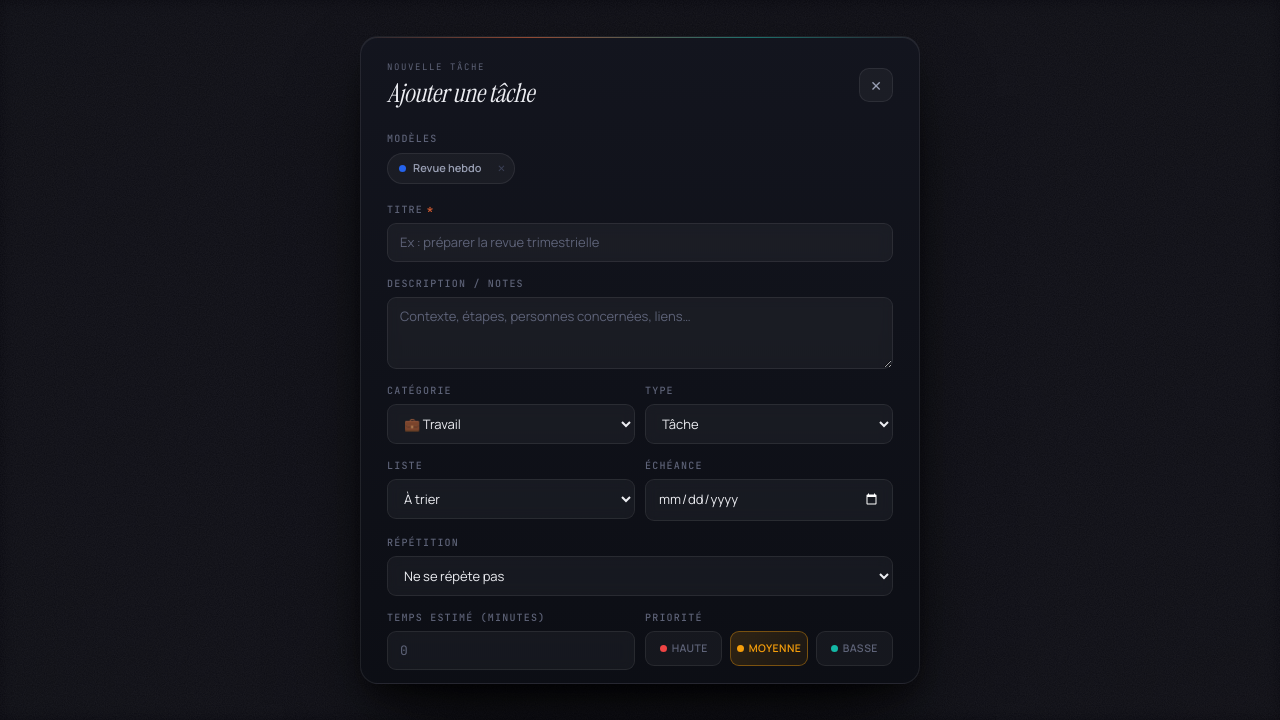
TaskModal — modèles › pré-remplit le formulaire depuis un modèle
The image size is (1280, 720).
Click the button "Revue hebdo".
click(439, 168)  # box left=388, top=154, right=489, bottom=182
(page scrolled)
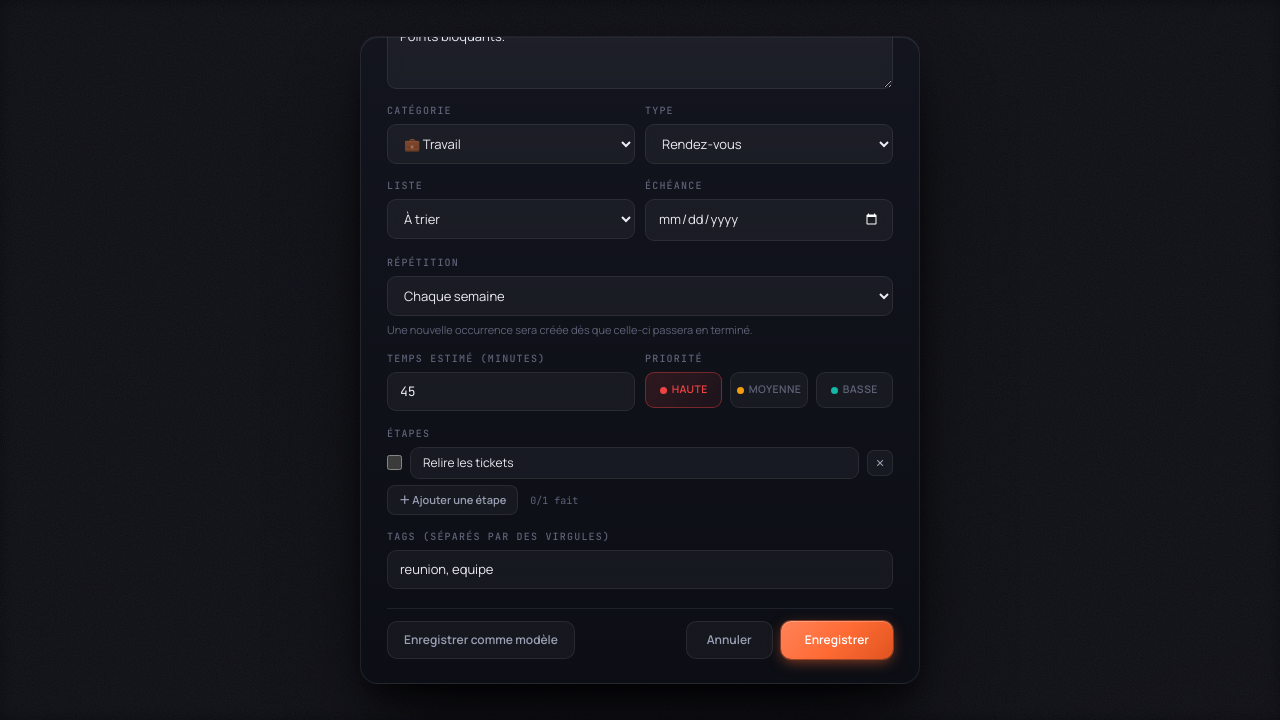
expect the number field labelled "Temps estimé (minutes)" holds "45": met, box left=387, top=372, right=635, bottom=412
expect the field labelled "Tags (séparés par des virgules)" holds "reunion, equipe": met, box left=387, top=550, right=893, bottom=590
expect the field showing "Relire les tickets" is shown: met, box left=410, top=447, right=859, bottom=479
